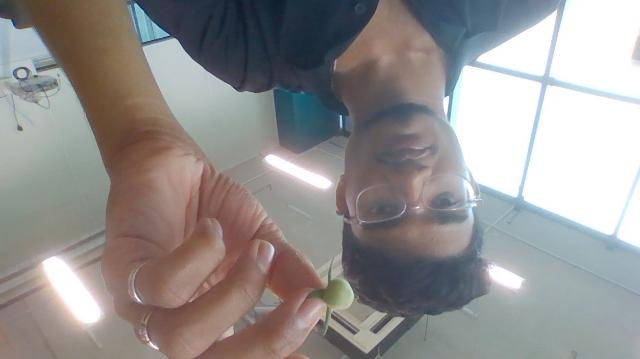Fruit Maturation: (320, 278, 354, 310)
